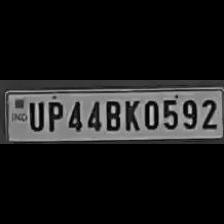0: (140, 96, 160, 130)
2: (198, 96, 218, 130)
4: (64, 98, 82, 132), (84, 98, 100, 132)
5: (160, 96, 178, 130)
9: (180, 96, 198, 130)
B: (102, 97, 120, 131)
K: (122, 96, 140, 132)
P: (44, 98, 64, 132)
U: (26, 98, 44, 132)
